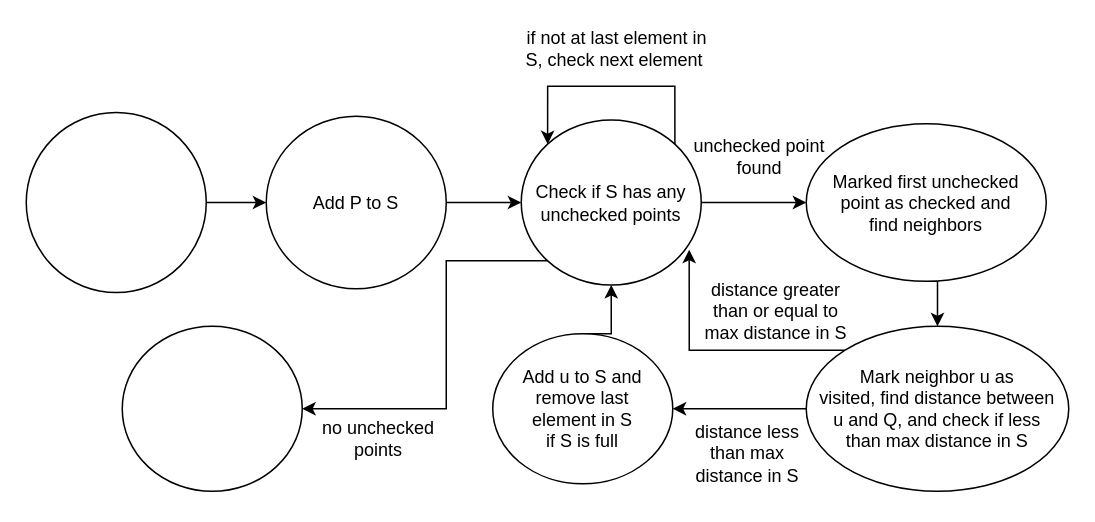
Some shapes in this 1095 by 522 pixel diagram are drawn without their labels. The shapes that lost their labels are listed below. From the top down, each one's centre as x and y in pixels, then its label:
(x=115, y=201): Find distance between P and Q
(x=211, y=408): Return first k elements in S
